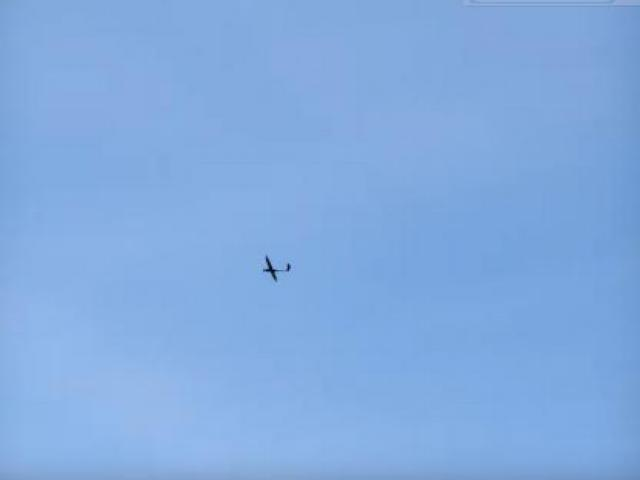uav: (260, 252, 292, 283)
